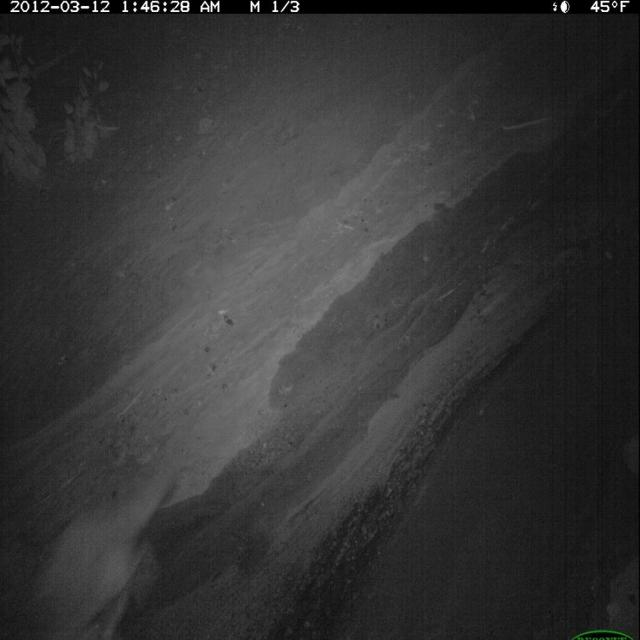coyote: (13, 454, 187, 640)
